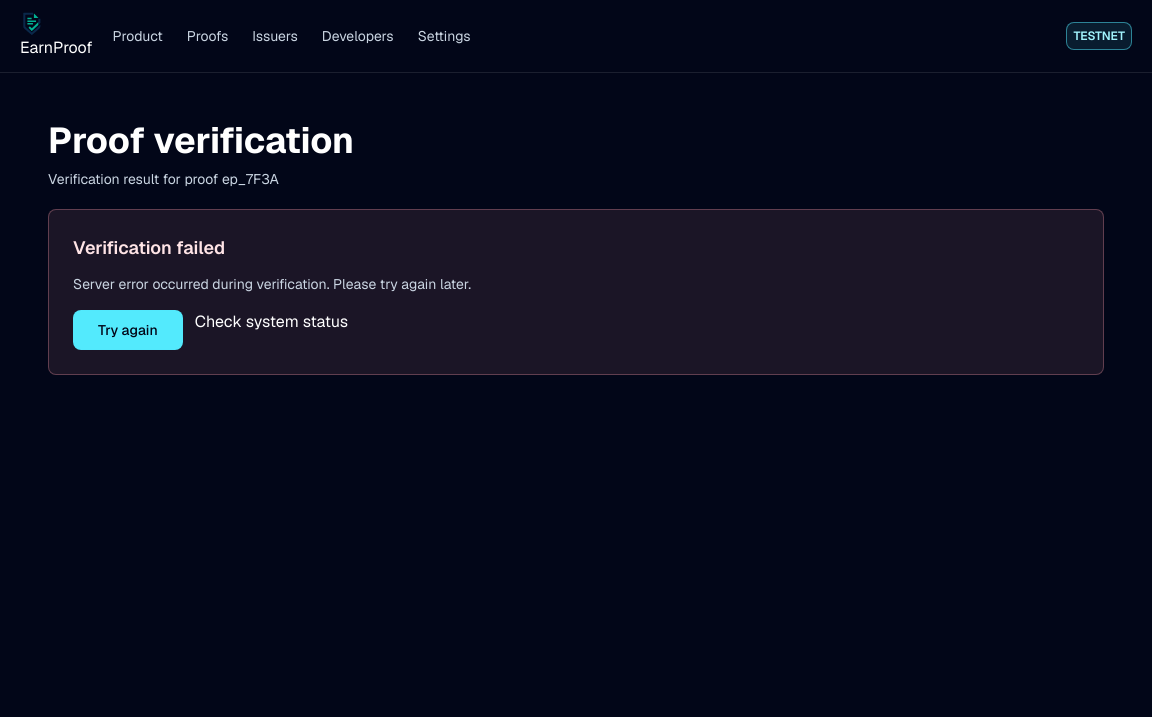
VerifyProofPage › handles network error with retry functionality
expect the heading "Verification failed" is shown: met, box [73, 236, 225, 259]
expect the text "Server error occurred during verification. Please try again later." is shown: met, box [73, 275, 471, 293]
Click the button "Try again" at coordinates (128, 330), box [73, 310, 183, 350]
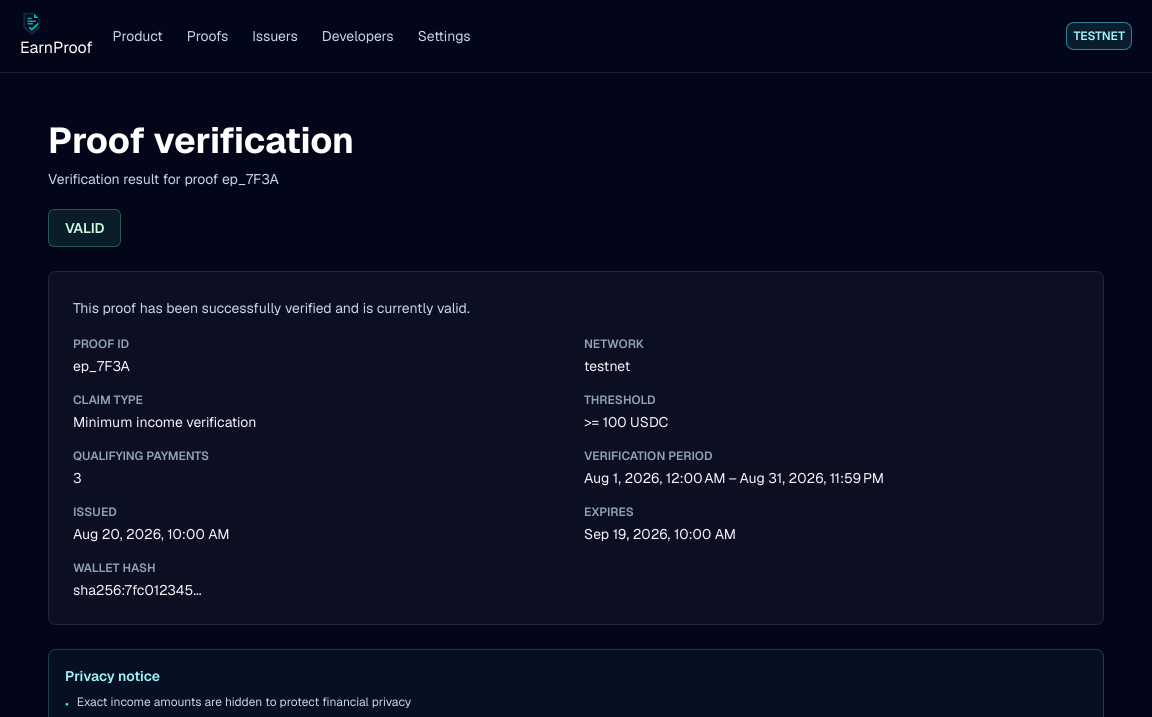
expect the text "valid" is shown: met, box [48, 209, 122, 247]
